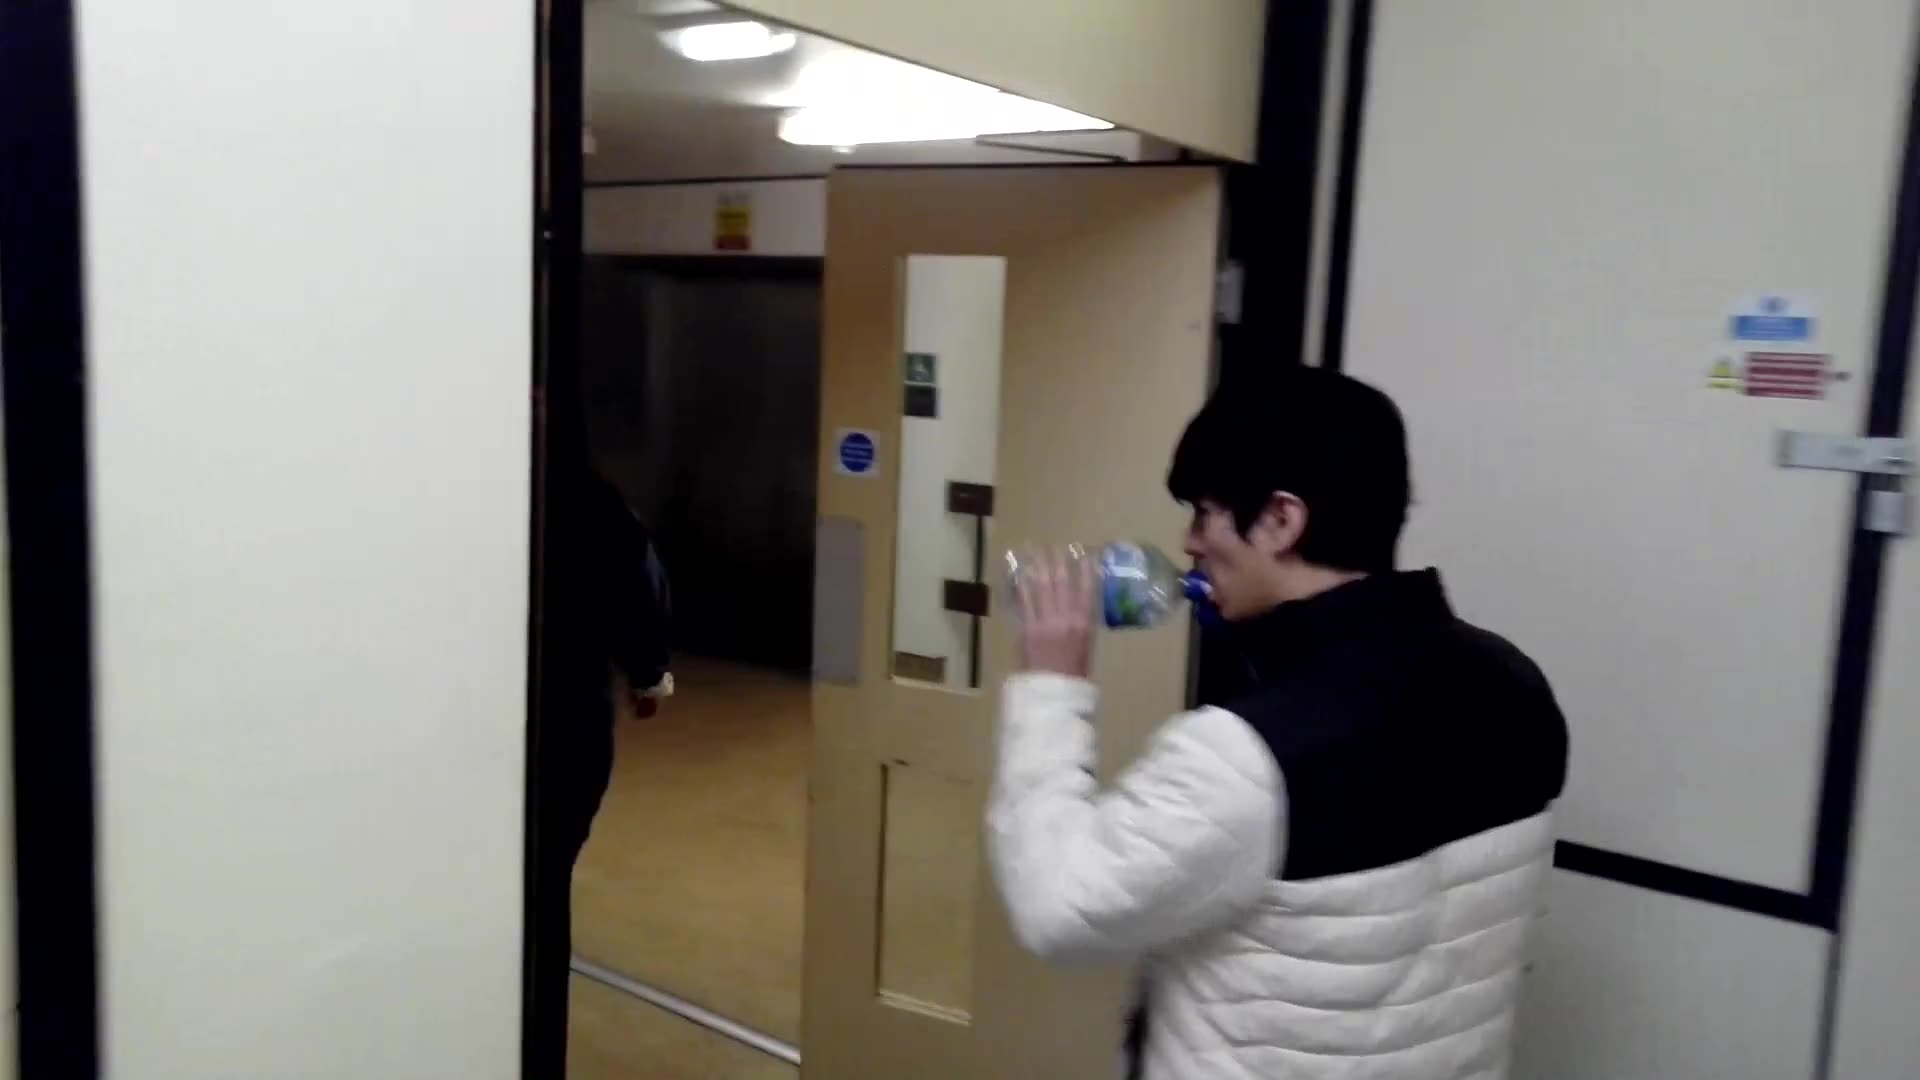Door: (814, 153, 1214, 1080)
Person: (1125, 359, 1565, 1080)
